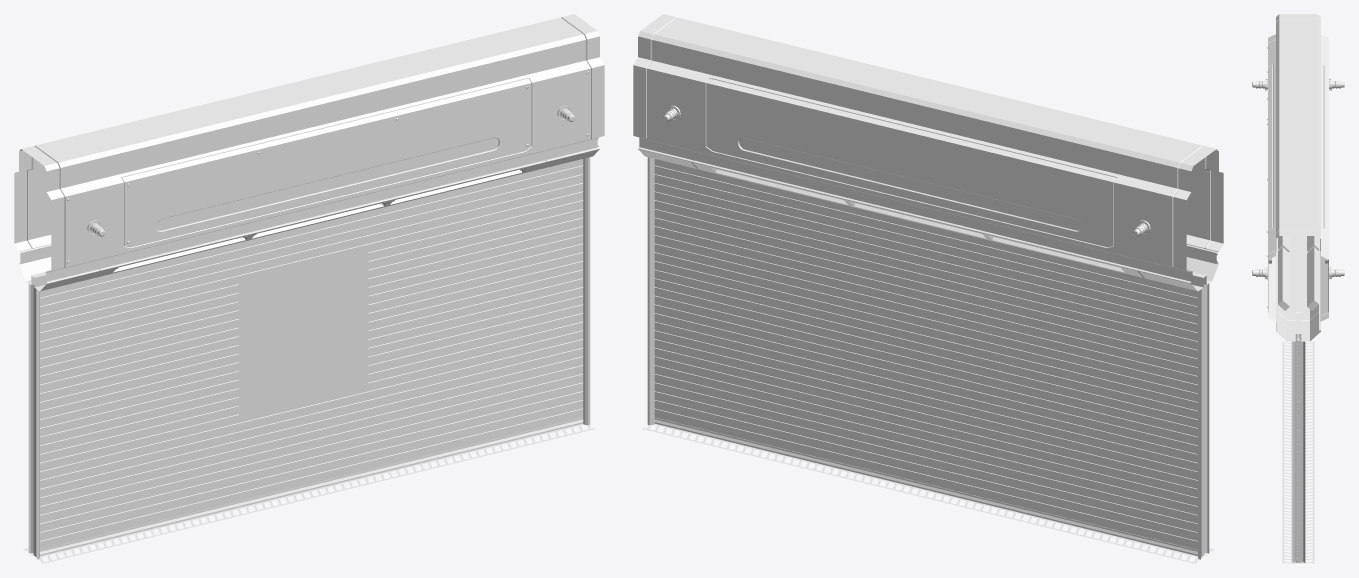
Rendered from KB3D_FTW_PropGarageDoor_C_grp.glb.
3 renders of one model, left to right at view 1: azimuth 30°, elevation 25°; view 2: azimuth 150°, elevation 25°; view 3: azimuth 270°, elevation 25°, orthographic. The views are drawn at different scales.
Visible parts, largest first — view 1: KB3D_FTW_PropGarageDoor_C_Door, KB3D_FTW_PropGarageDoor_C_Frame; view 2: KB3D_FTW_PropGarageDoor_C_Door, KB3D_FTW_PropGarageDoor_C_Frame; view 3: KB3D_FTW_PropGarageDoor_C_Frame.
Boxes of the visible parts, <box> form: KB3D_FTW_PropGarageDoor_C_Door: <box>40,159,583,555</box>; KB3D_FTW_PropGarageDoor_C_Frame: <box>14,14,604,563</box>; KB3D_FTW_PropGarageDoor_C_Door: <box>654,159,1197,555</box>; KB3D_FTW_PropGarageDoor_C_Frame: <box>633,14,1223,563</box>; KB3D_FTW_PropGarageDoor_C_Frame: <box>1252,14,1344,563</box>.
Bounding box in the file's own units: 10.5 × 7.24 × 1.85.
12 materials, 3 textured.
